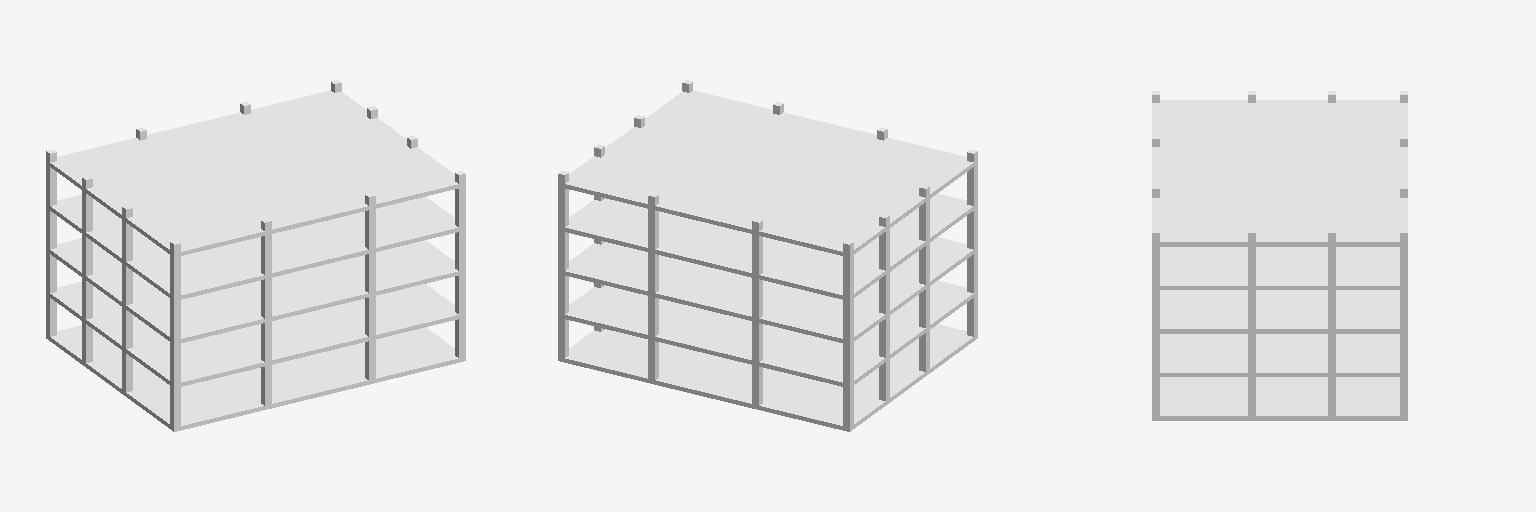
File: Bilding_global.obj
3 renders of one model, left to right at view 1: azimuth 30°, elevation 25°; view 2: azimuth 150°, elevation 25°; view 3: azimuth 270°, elevation 25°, orthographic.
Visible parts, largest first — view 1: object 1; view 2: object 1; view 3: object 1.
Part boxes in pixels (x1,y1,x2,y2): object 1: (46, 80, 465, 431); object 1: (558, 80, 977, 431); object 1: (1152, 91, 1407, 420).
Size of the model in its own units: 21 by 12.9 by 16.